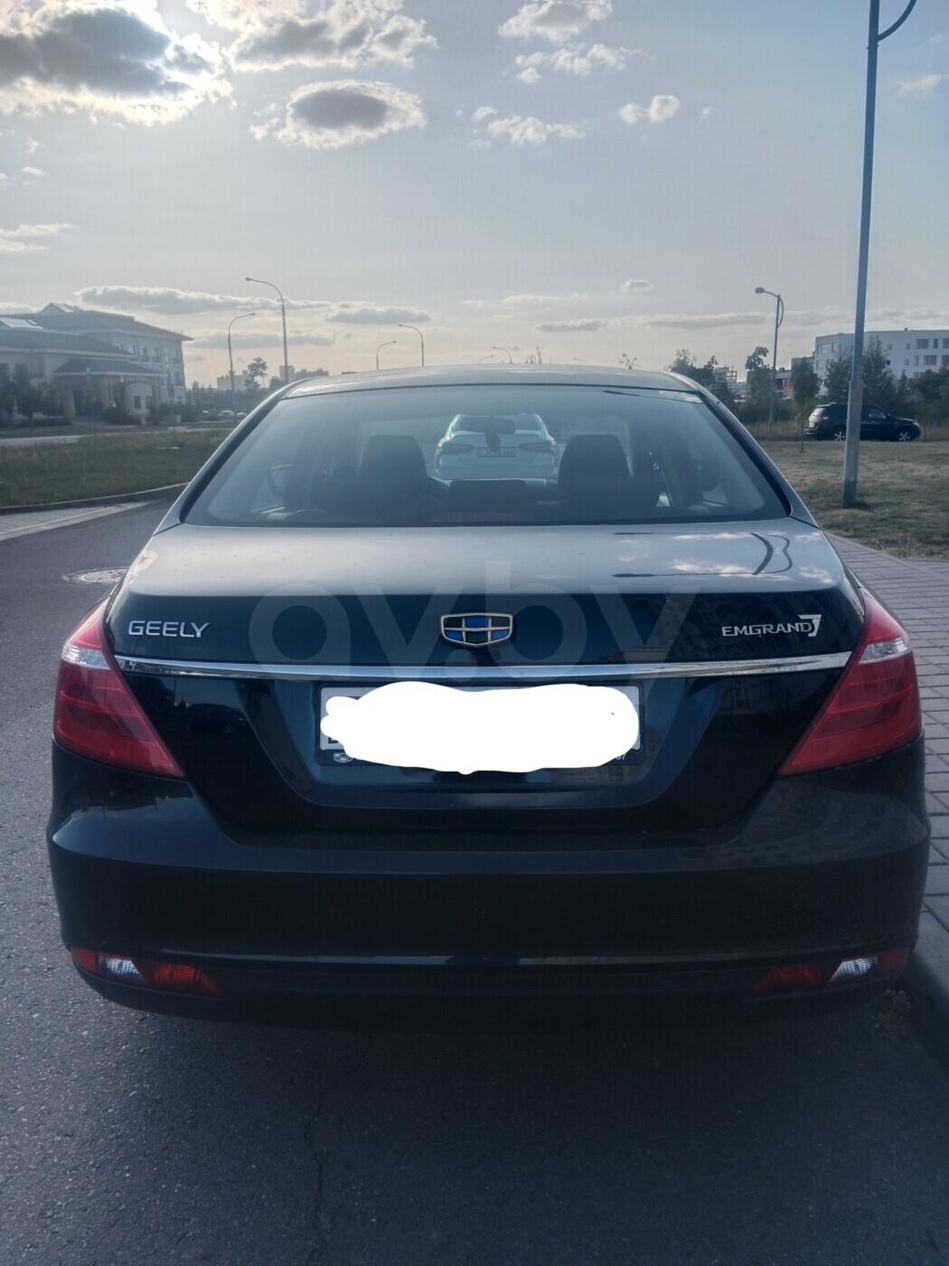Emgrand_2019-2021: (47, 365, 929, 1029)
